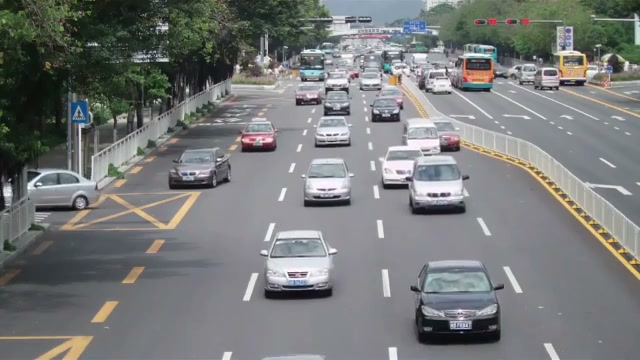car: (409, 260, 504, 343), (260, 229, 338, 298), (407, 154, 471, 214), (27, 170, 101, 211), (168, 147, 232, 189), (302, 157, 354, 207), (380, 145, 425, 189), (403, 118, 442, 155), (313, 115, 352, 147), (240, 120, 278, 152), (429, 118, 461, 152), (371, 98, 401, 122), (323, 91, 352, 115), (294, 82, 322, 106), (534, 66, 560, 91)
truck: (452, 54, 494, 92), (553, 51, 588, 85), (298, 51, 327, 82), (534, 66, 560, 91)
